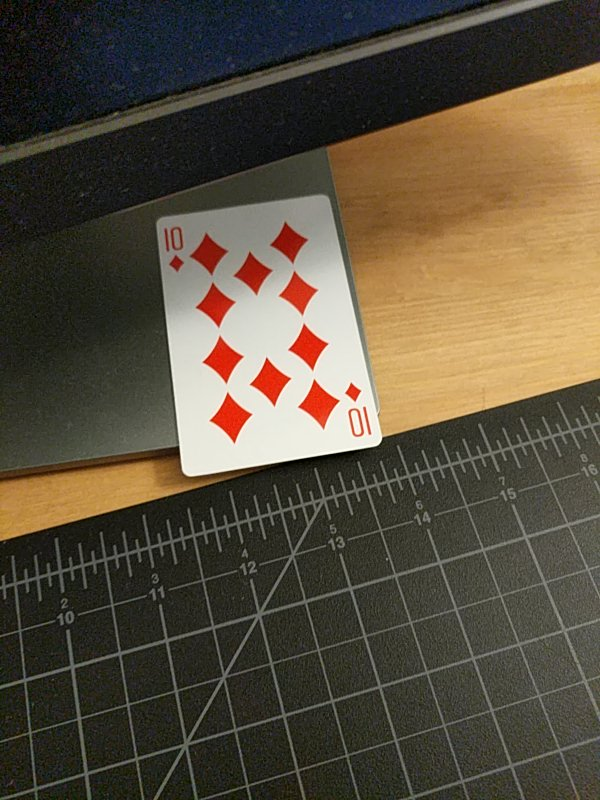Diamonds: (155, 195, 386, 480)
